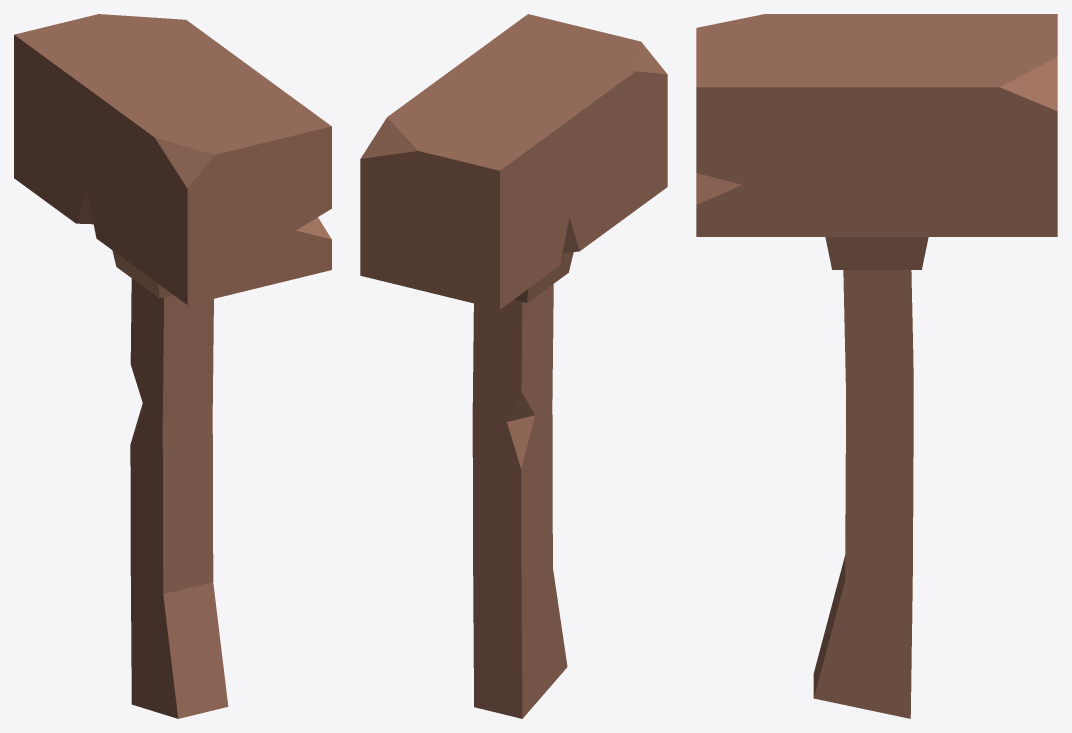
The model's file is LPHorror_Mallat.fbx.
3 renders of one model, left to right at view 1: azimuth 30°, elevation 25°; view 2: azimuth 150°, elevation 25°; view 3: azimuth 270°, elevation 25°, orthographic. The views are drawn at different scales.
Visible parts, largest first — view 1: Mallat; view 2: Mallat; view 3: Mallat.
Part boxes in pixels (left/top/right/bottom): Mallat: left=14, top=14, right=331, bottom=718; Mallat: left=360, top=14, right=667, bottom=718; Mallat: left=696, top=14, right=1057, bottom=718.
Size of the model in its own units: 14.73 by 61.44 by 30.66.
